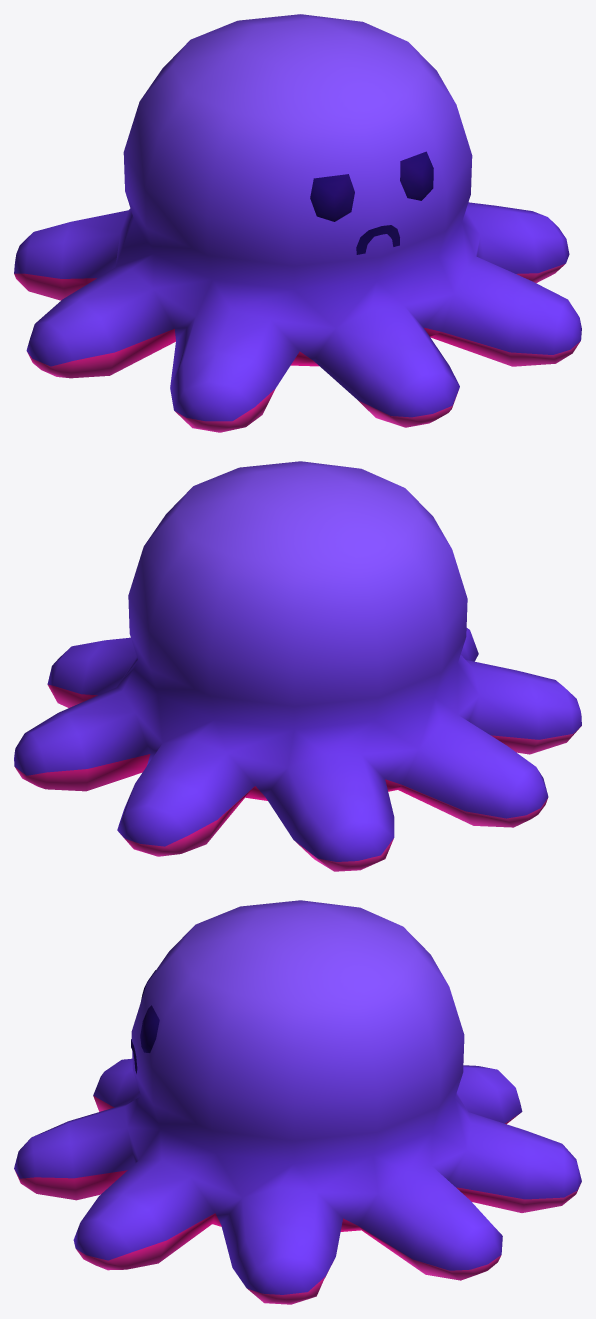
The model's file is octopus_sad.fbx.
3 views of the same model, one above another, from view 1: azimuth 30°, elevation 25°; view 2: azimuth 150°, elevation 25°; view 3: azimuth 270°, elevation 25° (orthographic). The views are drawn at different scales.
Visible parts, largest first — view 1: octopus_sad; view 2: octopus_sad; view 3: octopus_sad.
Boxes of the visible parts, box(x1,y1,x2,y2) form: octopus_sad: box(14, 14, 581, 432); octopus_sad: box(14, 461, 581, 871); octopus_sad: box(14, 900, 581, 1304).
Bounding box in the file's own units: 21.28 × 11.35 × 21.28.
